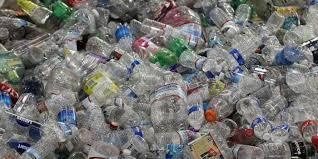Plastic bottle: (0, 1, 318, 159)
